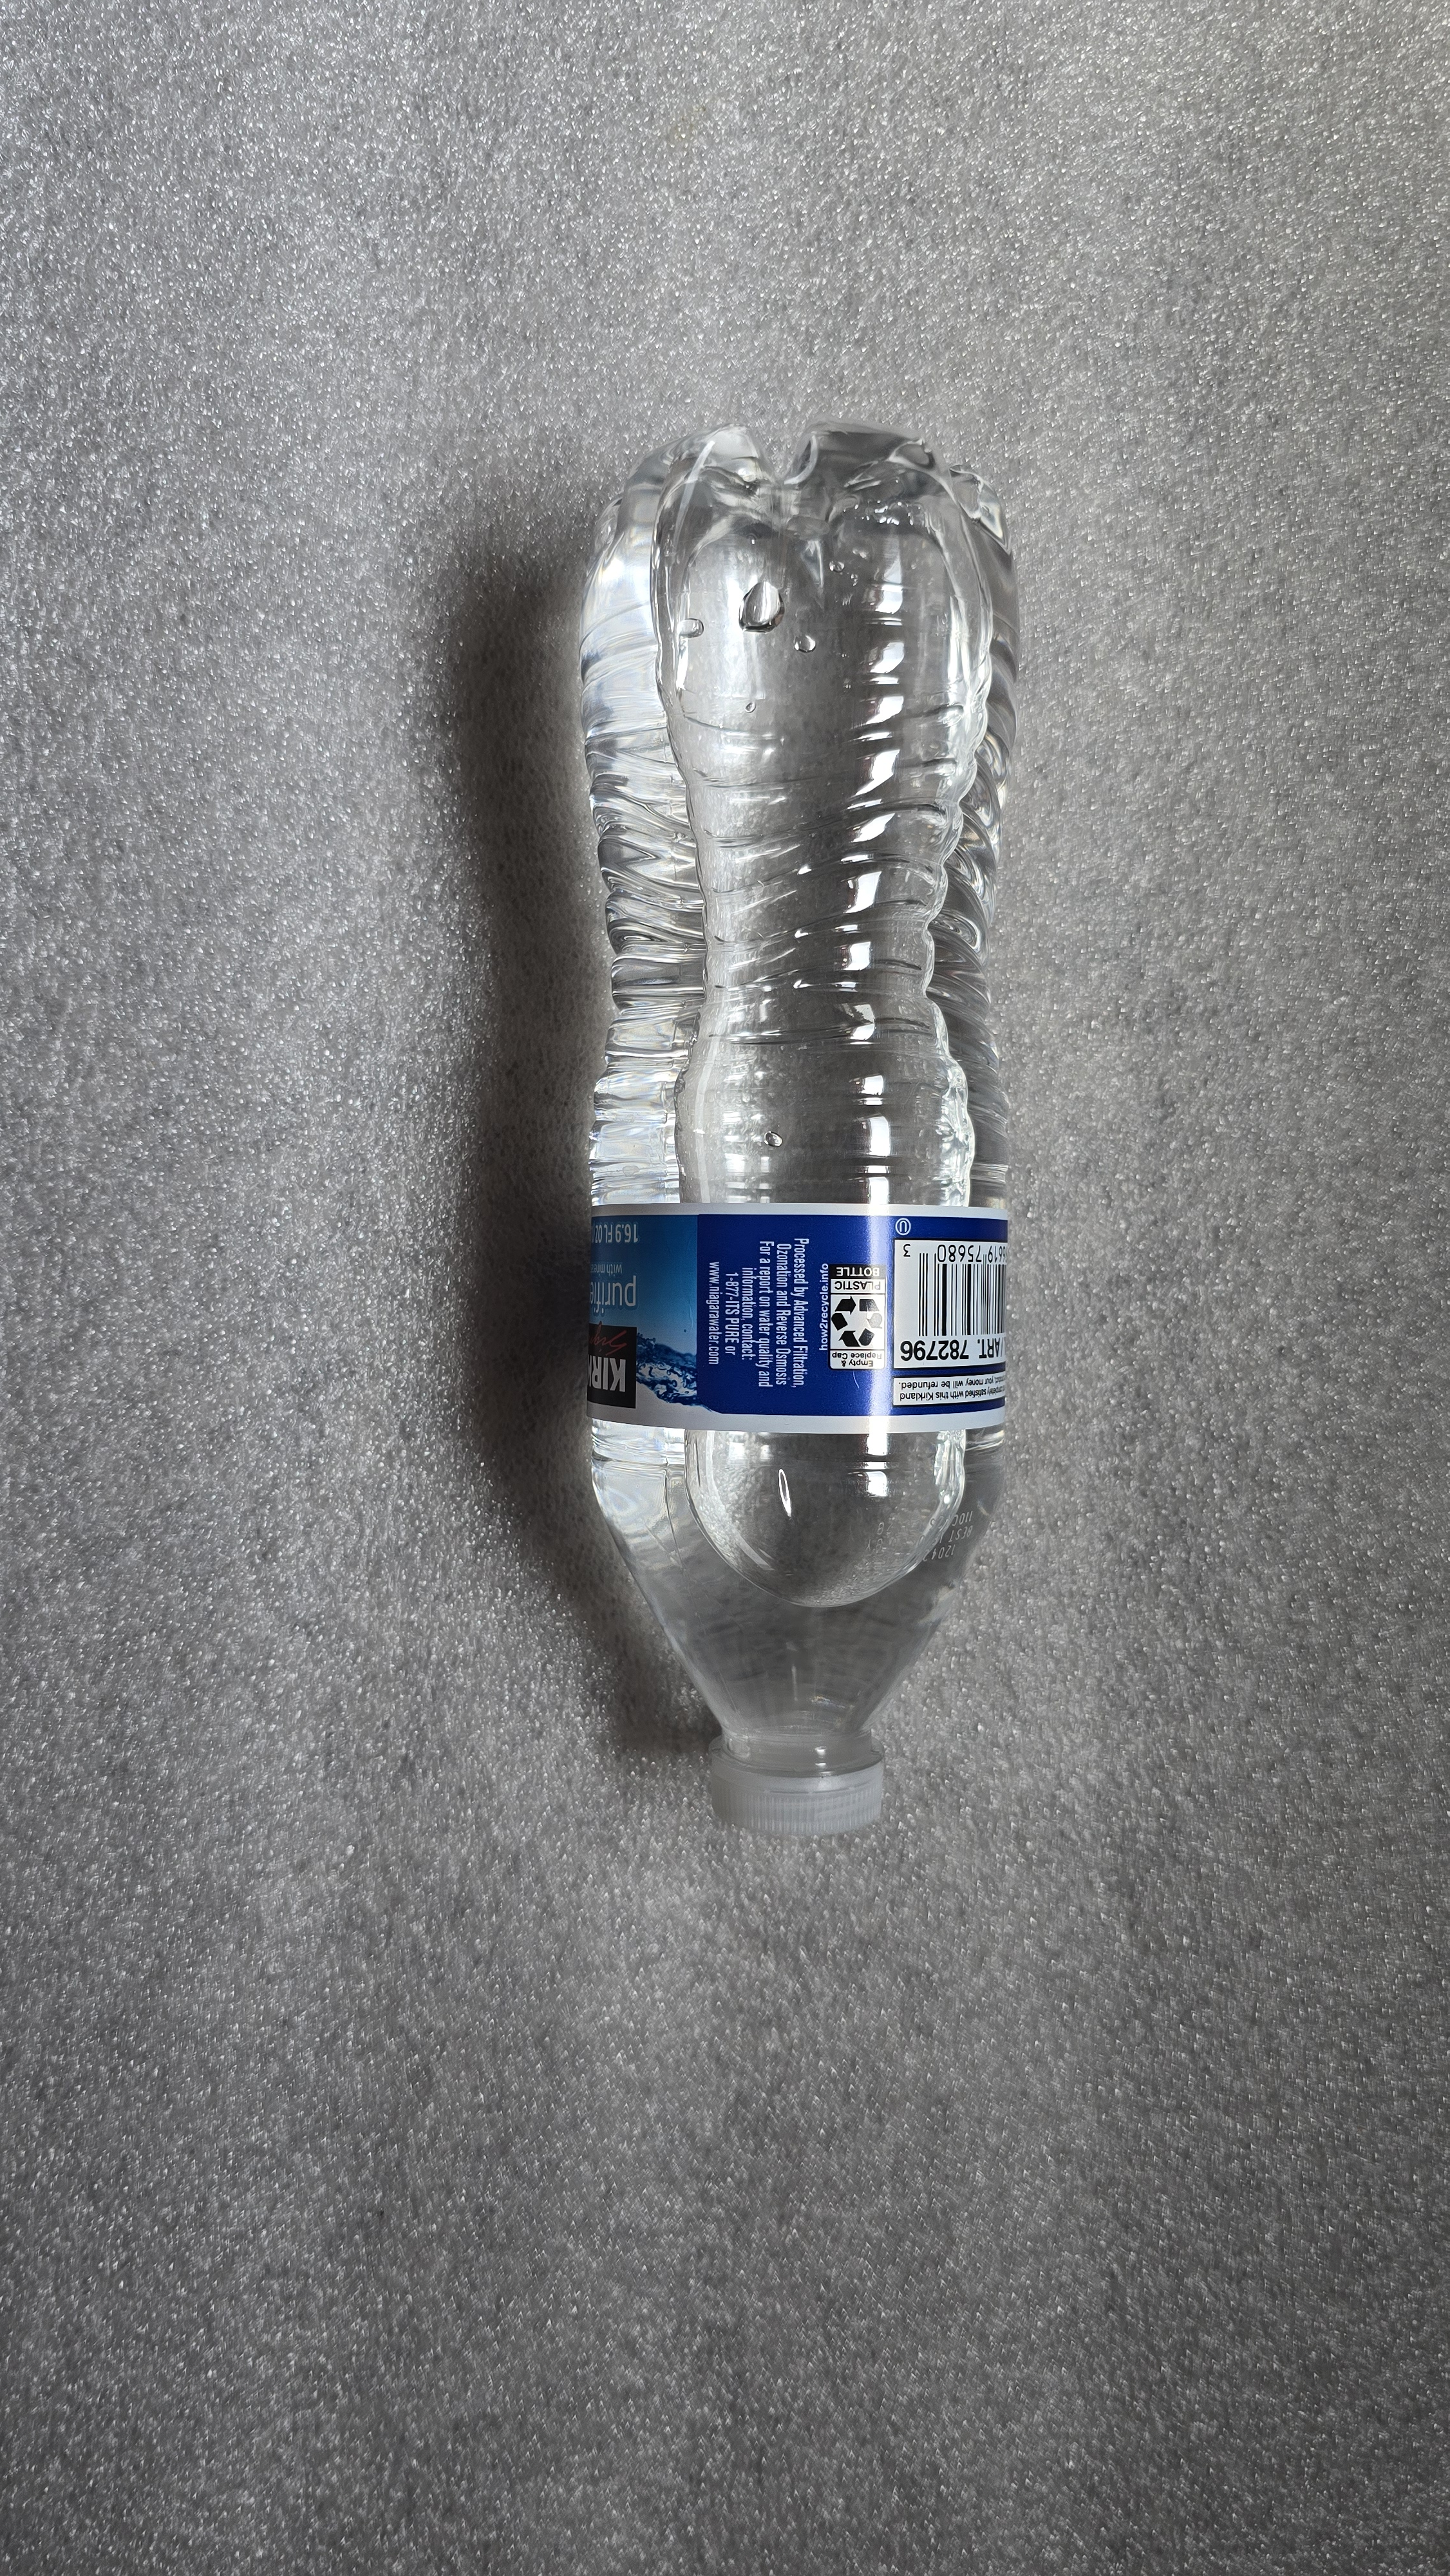bottle: (543, 386, 1038, 1856)
